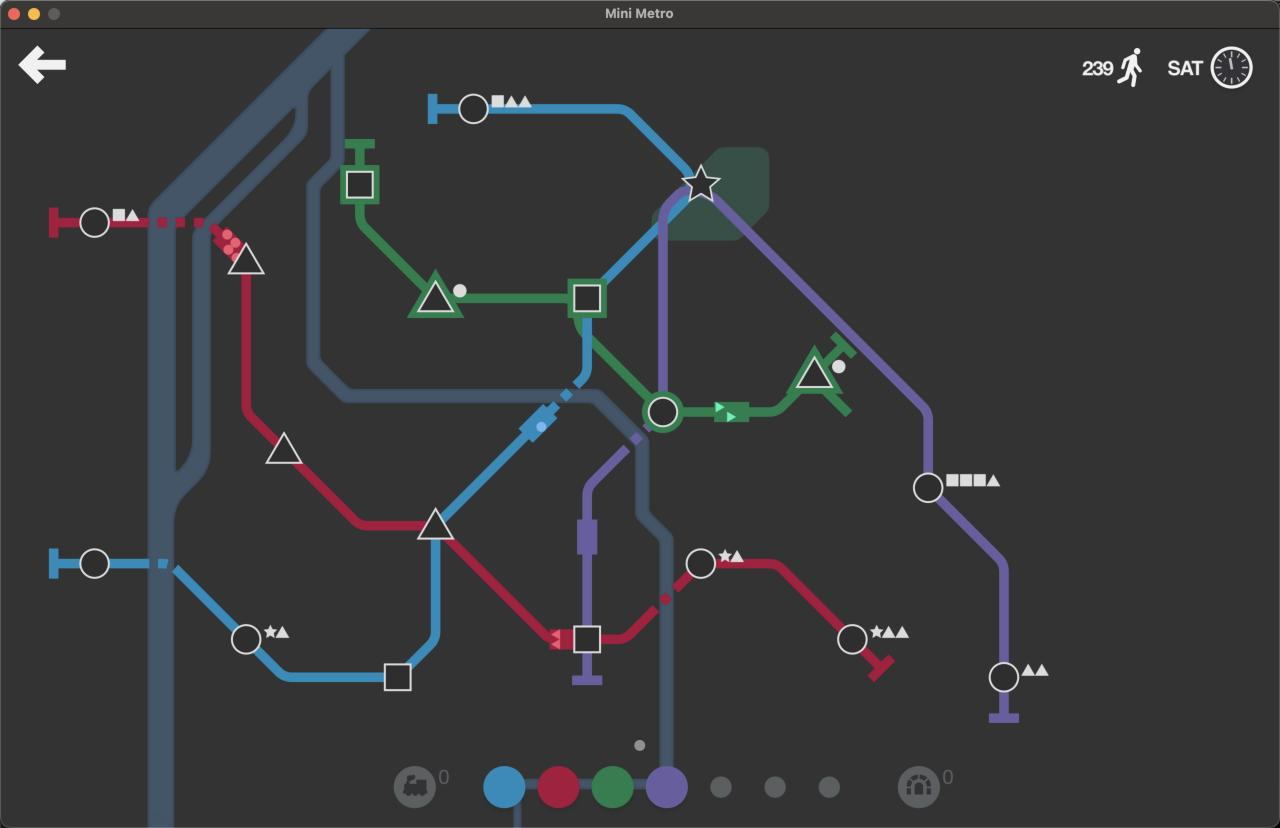CIRCLE: (644, 394, 681, 431), (913, 471, 945, 504), (685, 547, 717, 580), (458, 92, 489, 125), (79, 206, 110, 238), (837, 623, 868, 655), (988, 661, 1019, 693), (231, 623, 262, 655), (79, 547, 109, 579)
SQUARE: (567, 279, 606, 317), (343, 167, 377, 202), (382, 662, 413, 693), (572, 624, 602, 655)
STAR: (680, 164, 721, 203)
TRIANGLE: (414, 279, 458, 316), (795, 354, 834, 391), (416, 506, 456, 542), (265, 430, 304, 466), (227, 241, 266, 277)
